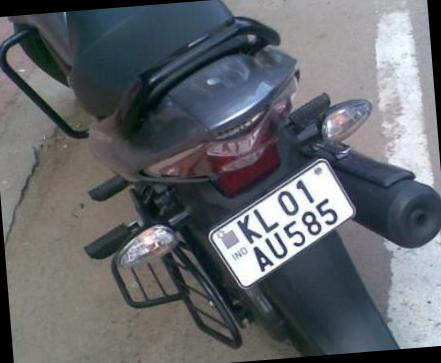plate: (200, 173, 366, 264)
